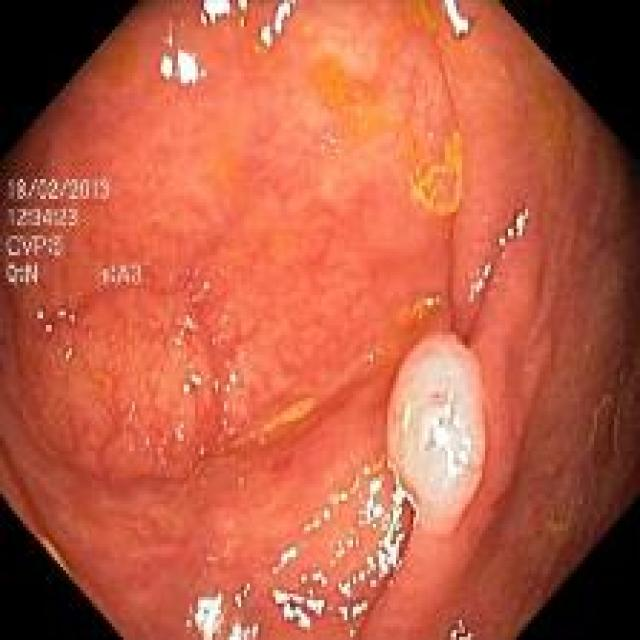Polyps: (388, 334, 488, 538)
